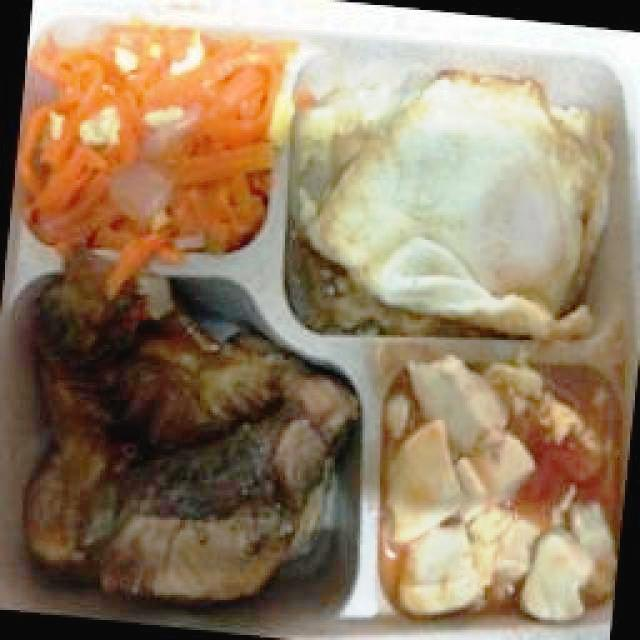burger: (291, 64, 614, 334)
carrot_eggs: (18, 18, 300, 290)
